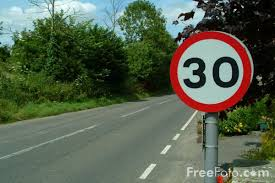Speed_limit_30km: (170, 30, 253, 110)
